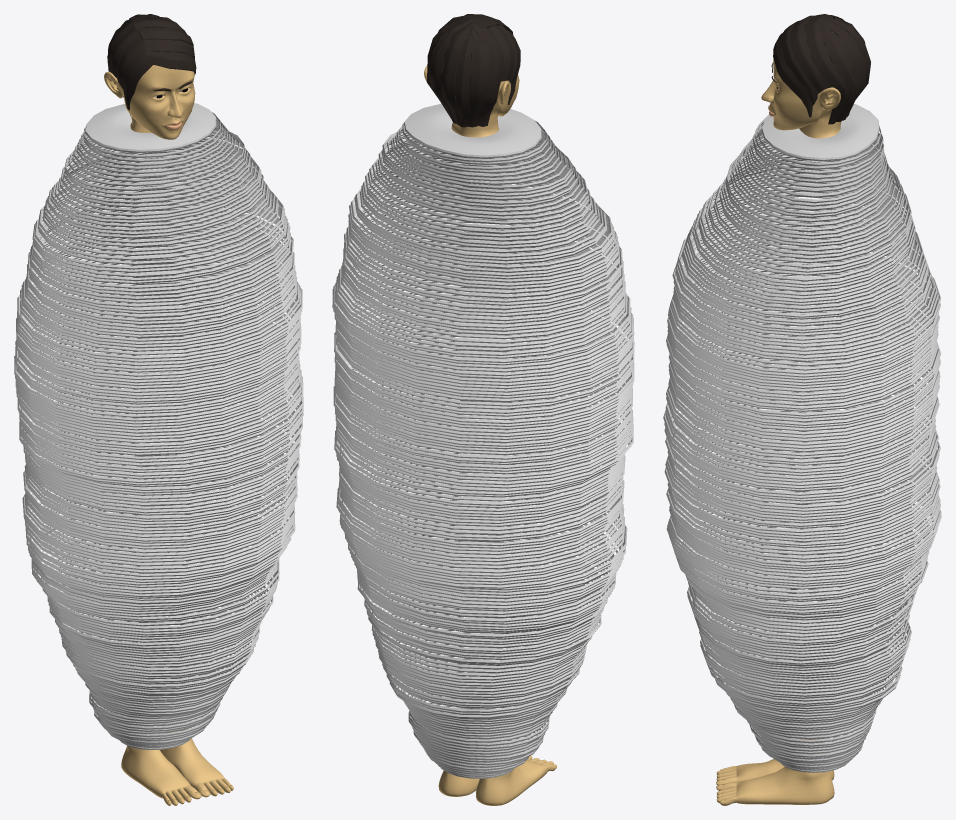
Rendered from hito_itomaki.fbx.
The picture shows the model from 3 angles, left to right: view 1: azimuth 30°, elevation 25°; view 2: azimuth 150°, elevation 25°; view 3: azimuth 270°, elevation 25°; orthographic projection. The views are drawn at different scales.
Parts seen in each view (by area): view 1: body_o, kami_ketugou_o, kumonoito_o, kumonoito_o53, kumonoito_o52, kumonoito_o55, kumonoito_o58, kumonoito_o56, kumonoito_o64, kumonoito_o31, kumonoito_o51, kumonoito_o36 (+153 smaller); view 2: kami_ketugou_o, kumonoito_o, body_o, kumonoito_o66, kumonoito_o68, kumonoito_o53, kumonoito_o59, kumonoito_o36, kumonoito_o48, kumonoito_o49, kumonoito_o47, kumonoito_o82 (+157 smaller); view 3: body_o, kami_ketugou_o, kumonoito_o, kumonoito_o44, kumonoito_o50, kumonoito_o49, kumonoito_o54, kumonoito_o60, kumonoito_o61, kumonoito_o36, kumonoito_o37, kumonoito_o48 (+156 smaller).
Part boxes in pixels (<box>): body_o: <box>104,65,233,805</box>; kami_ketugou_o: <box>107,14,196,115</box>; kumonoito_o: <box>85,103,216,152</box>; kumonoito_o53: <box>17,243,300,359</box>; kumonoito_o52: <box>20,240,299,355</box>; kumonoito_o55: <box>19,250,302,366</box>; kumonoito_o58: <box>17,261,300,376</box>; kumonoito_o56: <box>18,253,301,369</box>; kumonoito_o64: <box>18,280,300,396</box>; kumonoito_o31: <box>33,182,286,281</box>; kumonoito_o51: <box>20,238,296,351</box>; kumonoito_o36: <box>30,197,290,299</box>; kami_ketugou_o: <box>427,14,520,127</box>; kumonoito_o: <box>404,103,541,158</box>; body_o: <box>424,65,556,805</box>; kumonoito_o66: <box>337,285,634,406</box>; kumonoito_o68: <box>335,292,631,413</box>; kumonoito_o53: <box>333,243,630,362</box>; kumonoito_o59: <box>337,261,633,382</box>; kumonoito_o36: <box>346,190,619,298</box>; kumonoito_o48: <box>339,226,625,343</box>; kumonoito_o49: <box>337,229,625,347</box>; kumonoito_o47: <box>341,223,623,339</box>; kumonoito_o82: <box>335,338,631,459</box>; body_o: <box>716,58,841,805</box>; kami_ketugou_o: <box>773,14,870,124</box>; kumonoito_o: <box>761,104,879,161</box>; kumonoito_o44: <box>672,215,931,336</box>; kumonoito_o50: <box>673,232,938,358</box>; kumonoito_o49: <box>673,230,937,355</box>; kumonoito_o54: <box>668,245,935,374</box>; kumonoito_o60: <box>667,262,938,392</box>; kumonoito_o61: <box>667,266,938,396</box>; kumonoito_o36: <box>684,189,920,309</box>; kumonoito_o37: <box>682,191,923,312</box>; kumonoito_o48: <box>673,226,934,351</box>.
Size of the model in its own units: 1.67 by 4.59 by 1.5.
